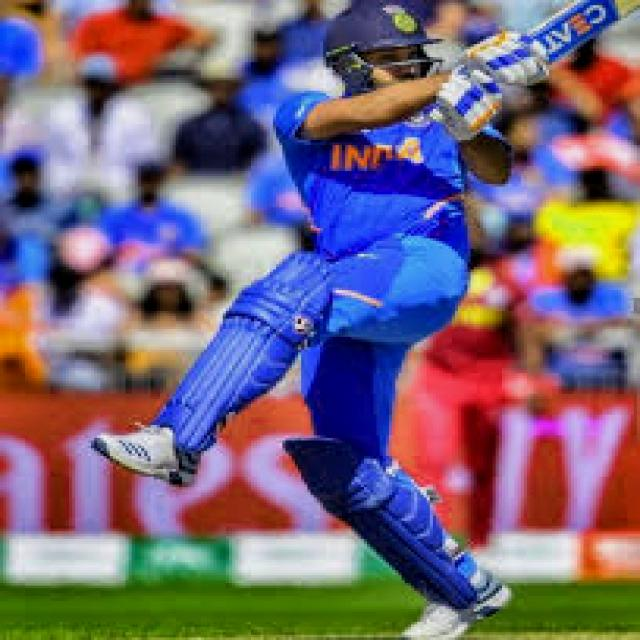toe: (594, 0, 638, 16)
